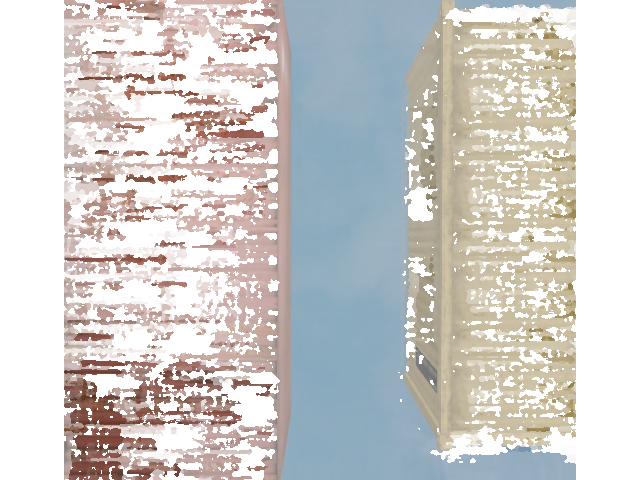container3: (402, 0, 635, 454)
container4: (48, 0, 295, 478)
